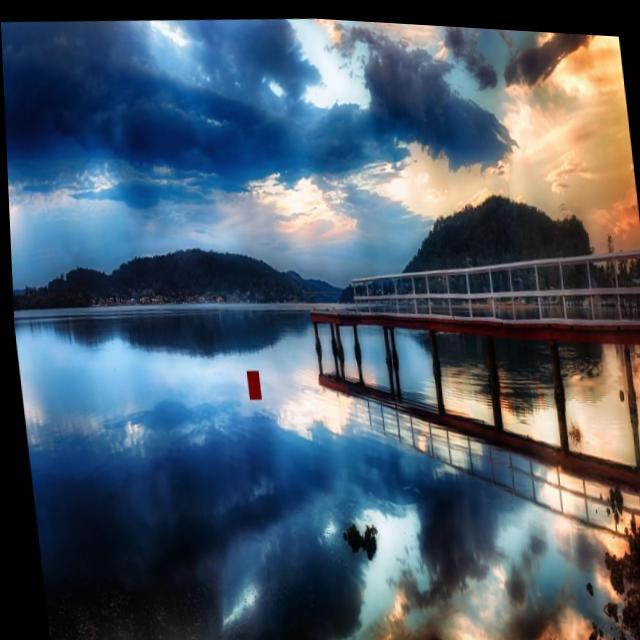RedSquare: (239, 360, 260, 400)
